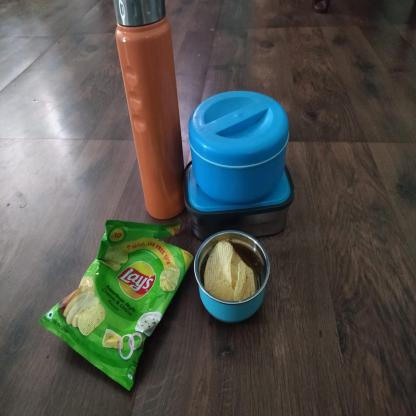cream_and_onion: (37, 219, 194, 390)
